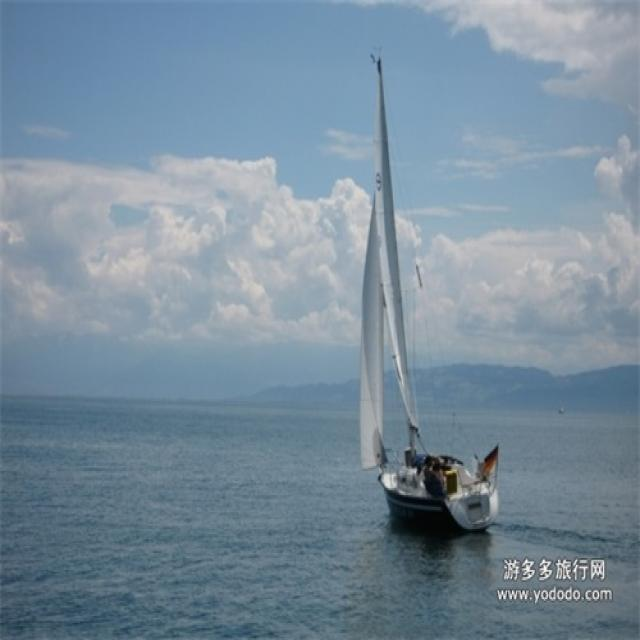Ship: (342, 53, 508, 547)
